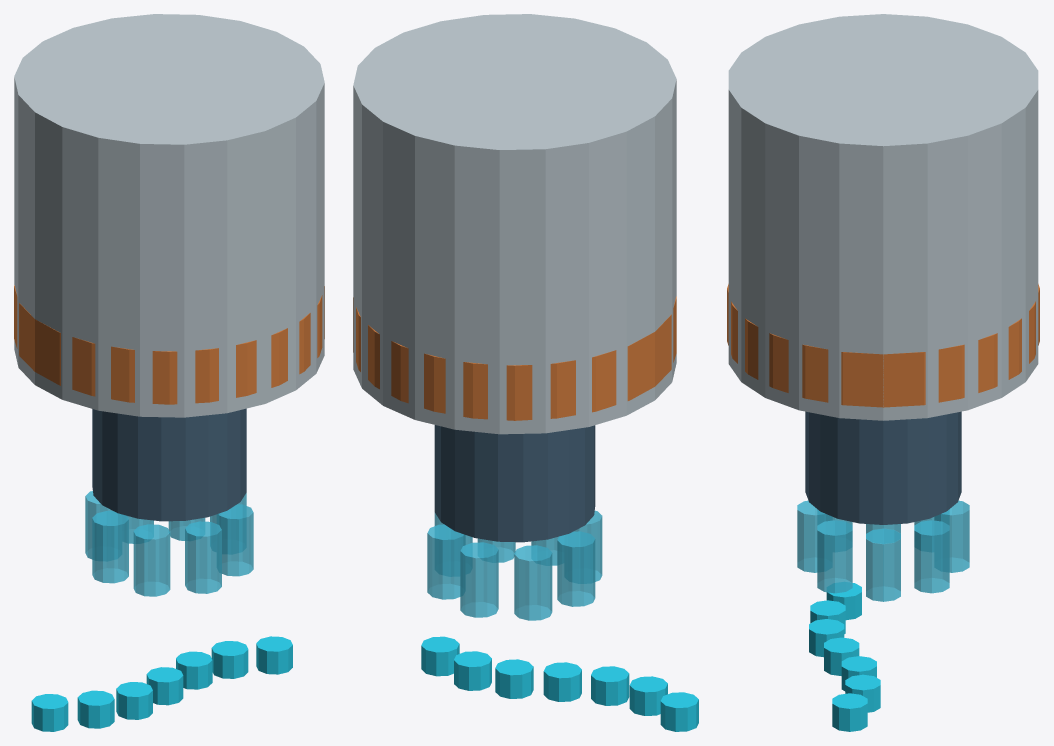
The model's file is 20_L73_PrecisionSlurryNozzle.fbx.
3 renders of one model, left to right at view 1: azimuth 30°, elevation 25°; view 2: azimuth 150°, elevation 25°; view 3: azimuth 270°, elevation 25°, orthographic. The views are drawn at different scales.
Visible parts, largest first — view 1: PrecisionSlurryNozzle_Part_0000, PrecisionSlurryNozzle_Part_0002, PrecisionSlurryNozzle_Part_0001, PrecisionSlurryNozzle, PrecisionSlurryNozzle_Part_0006, PrecisionSlurryNozzle_Part_0005, PrecisionSlurryNozzle_Part_0007, PrecisionSlurryNozzle_Part_0004, PrecisionSlurryNozzle_Part_0008; view 2: PrecisionSlurryNozzle_Part_0000, PrecisionSlurryNozzle_Part_0002, PrecisionSlurryNozzle_Part_0001, PrecisionSlurryNozzle, PrecisionSlurryNozzle_Part_0009, PrecisionSlurryNozzle_Part_0008, PrecisionSlurryNozzle_Part_0007, PrecisionSlurryNozzle_Part_0010, PrecisionSlurryNozzle_Part_0006; view 3: PrecisionSlurryNozzle_Part_0000, PrecisionSlurryNozzle_Part_0002, PrecisionSlurryNozzle_Part_0001, PrecisionSlurryNozzle, PrecisionSlurryNozzle_Part_0004, PrecisionSlurryNozzle_Part_0010, PrecisionSlurryNozzle_Part_0003, PrecisionSlurryNozzle_Part_0005, PrecisionSlurryNozzle_Part_0009.
Boxes of the visible parts, <box> form: PrecisionSlurryNozzle_Part_0000: <box>14,14,324,417</box>; PrecisionSlurryNozzle_Part_0002: <box>92,408,246,521</box>; PrecisionSlurryNozzle_Part_0001: <box>14,285,324,404</box>; PrecisionSlurryNozzle: <box>31,636,292,731</box>; PrecisionSlurryNozzle_Part_0006: <box>133,524,170,596</box>; PrecisionSlurryNozzle_Part_0005: <box>185,521,221,593</box>; PrecisionSlurryNozzle_Part_0007: <box>92,511,128,583</box>; PrecisionSlurryNozzle_Part_0004: <box>216,504,253,576</box>; PrecisionSlurryNozzle_Part_0008: <box>85,491,113,559</box>; PrecisionSlurryNozzle_Part_0000: <box>353,14,676,434</box>; PrecisionSlurryNozzle_Part_0002: <box>434,425,595,542</box>; PrecisionSlurryNozzle_Part_0001: <box>353,296,676,420</box>; PrecisionSlurryNozzle: <box>421,636,698,731</box>; PrecisionSlurryNozzle_Part_0009: <box>460,542,498,617</box>; PrecisionSlurryNozzle_Part_0008: <box>514,545,552,620</box>; PrecisionSlurryNozzle_Part_0007: <box>557,531,595,606</box>; PrecisionSlurryNozzle_Part_0010: <box>427,524,465,599</box>; PrecisionSlurryNozzle_Part_0006: <box>573,510,602,581</box>; PrecisionSlurryNozzle_Part_0000: <box>728,14,1038,420</box>; PrecisionSlurryNozzle_Part_0002: <box>805,411,961,524</box>; PrecisionSlurryNozzle_Part_0001: <box>727,284,1039,407</box>; PrecisionSlurryNozzle: <box>809,583,880,731</box>; PrecisionSlurryNozzle_Part_0004: <box>817,520,852,593</box>; PrecisionSlurryNozzle_Part_0010: <box>914,520,949,593</box>; PrecisionSlurryNozzle_Part_0003: <box>866,528,900,601</box>; PrecisionSlurryNozzle_Part_0005: <box>797,500,832,572</box>; PrecisionSlurryNozzle_Part_0009: <box>934,500,969,572</box>.
Bounding box in the file's own units: 34.4 × 67.8 × 32.
